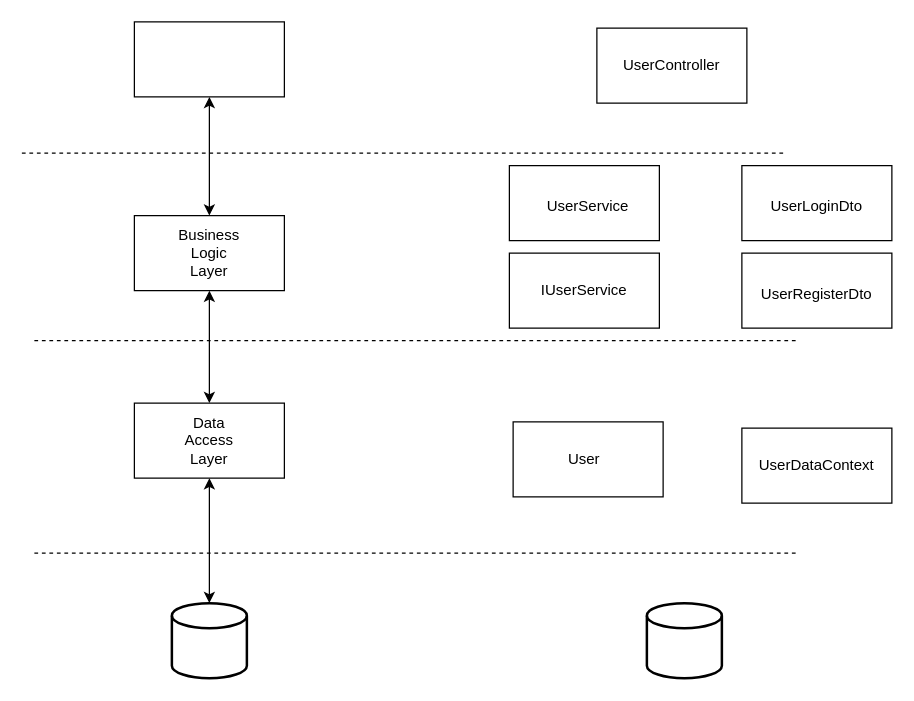
Some shapes in this 914 by 701 pixel diagram are drawn without their labels. The shapes that lost their labels are listed below. From the top down, each one's box as (x1, y1, x2, y2) in pixels, then its label:
(133, 21, 284, 97): Presentation Layer
(170, 601, 248, 679): Database
(645, 601, 722, 679): MySQL
